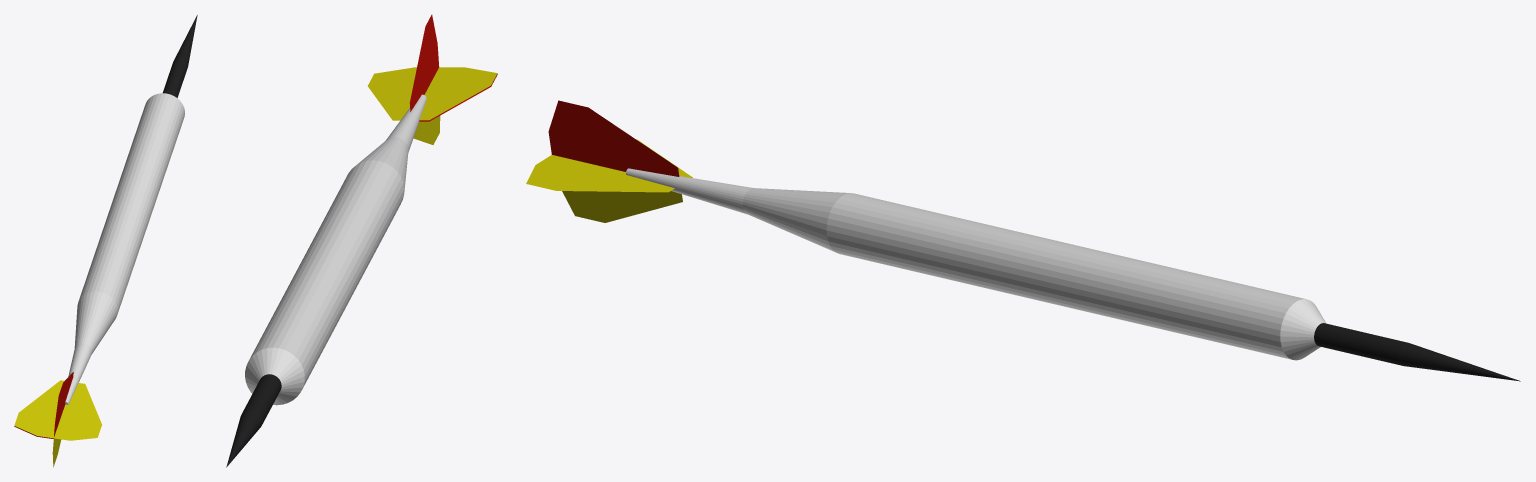
Rendered from dartpfeil.fbx.
3 renders of one model, left to right at view 1: azimuth 30°, elevation 25°; view 2: azimuth 210°, elevation 25°; view 3: azimuth 270°, elevation 25°, orthographic. The views are drawn at different scales.
Parts seen in each view (by area): view 1: Cone; view 2: Cone; view 3: Cone.
Part boxes in pixels (x1,y1,x2,y2): Cone: (14, 15, 197, 467); Cone: (226, 14, 497, 467); Cone: (526, 100, 1520, 381).
Size of the model in its own units: 1200 by 271 by 1408.
